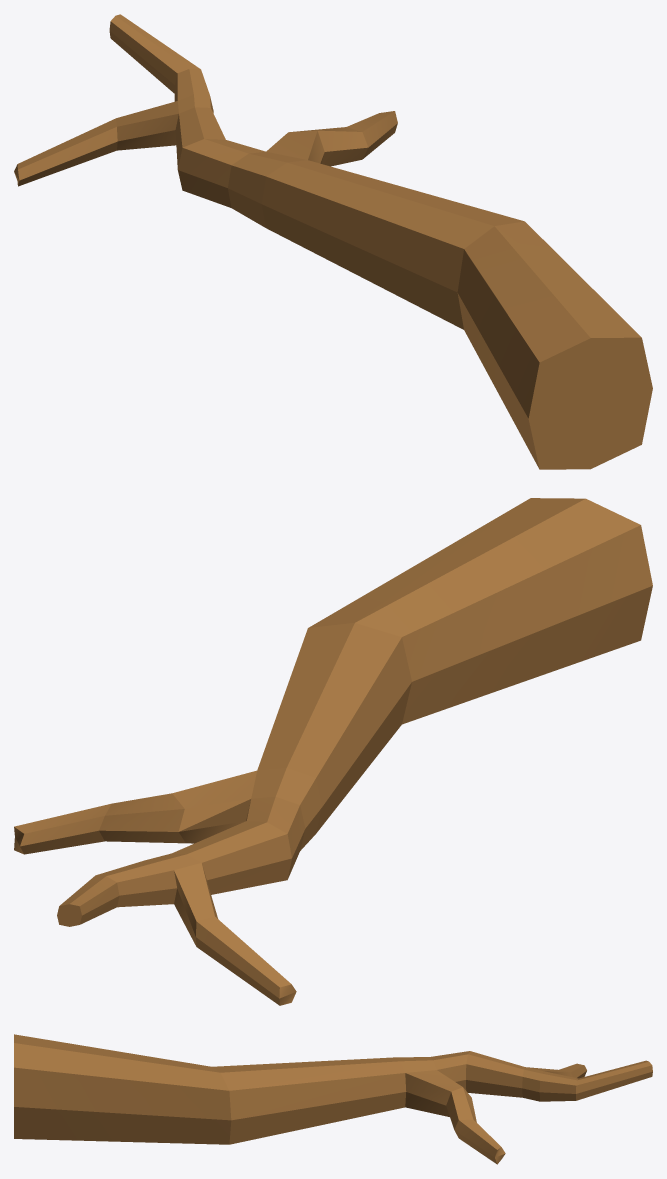
File: trunk3.dae
3 views of the same model, one above another, from view 1: azimuth 30°, elevation 25°; view 2: azimuth 150°, elevation 25°; view 3: azimuth 270°, elevation 25° (orthographic). The views are drawn at different scales.
Visible parts, largest first — view 1: Brown; view 2: Brown; view 3: Brown.
Part boxes in pixels (x1,y1,x2,y2): Brown: (14, 14, 652, 469); Brown: (14, 498, 652, 1005); Brown: (14, 1034, 652, 1164).
Size of the model in its own units: 0.2604 by 0.6765 by 0.102.
